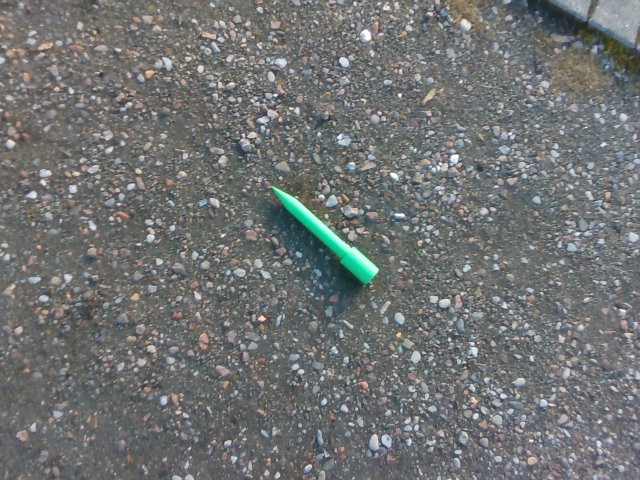Probe: (267, 178, 383, 289)
